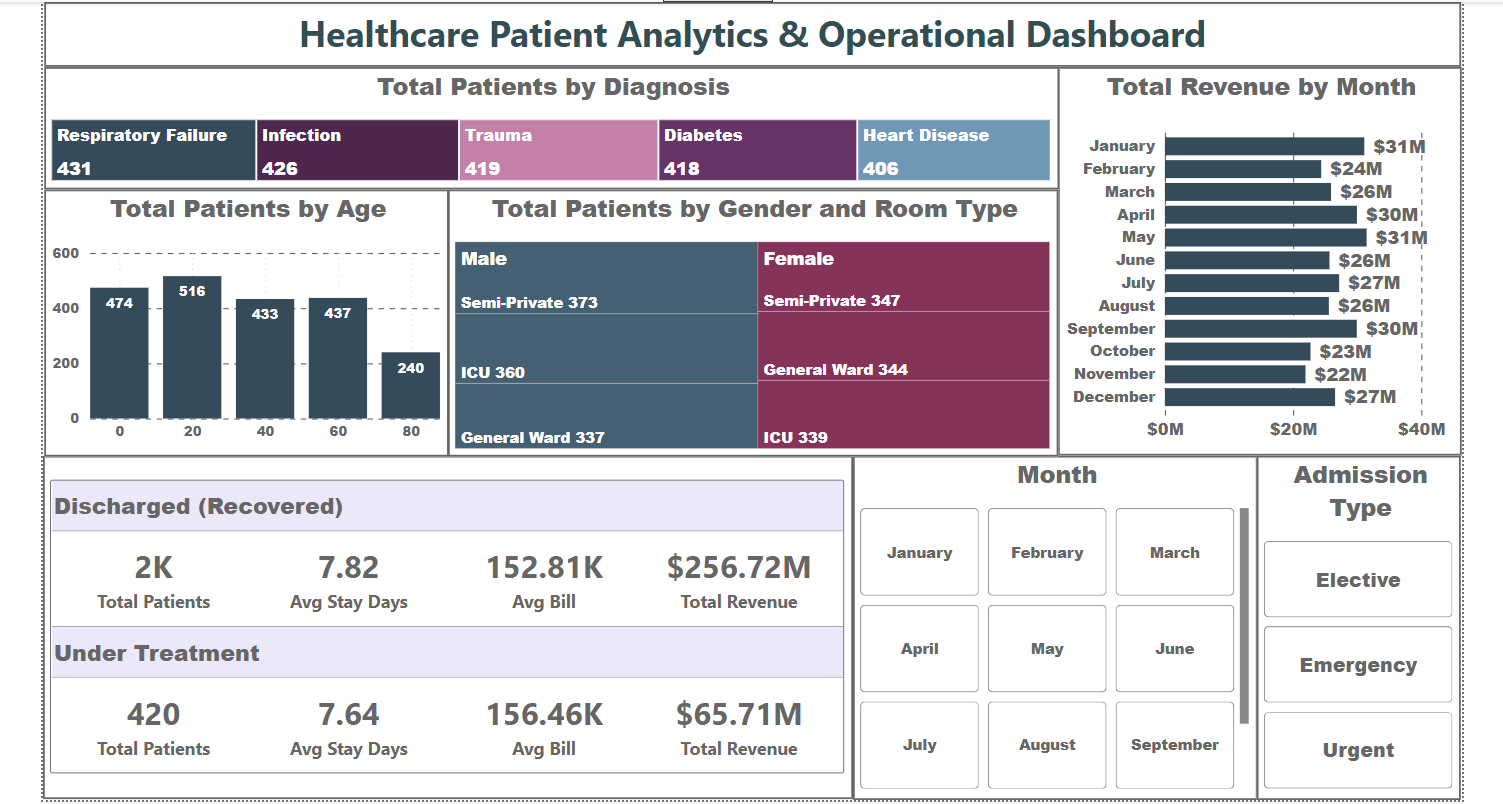

What the dashboard file says about the page in this screenshot:
{"tool":"powerbi","page":{"name":"Page 1","canvas":[1280,720],"ordinal":0},"visuals":[{"type":"advancedSlicerVisual","title":"Month ","fields":{"Values":["healthcare_analytics_db patient_data.Month Name"]},"box":[729.9,409.1,364.9,310],"z":0},{"type":"advancedSlicerVisual","fields":{"Values":["healthcare_analytics_db patient_data.Admission Type"]},"box":[1094.8,409.1,184,310],"z":1000},{"type":"cardVisual","fields":{"Data":["healthcare_analytics_db patient_data.Total Patients","healthcare_analytics_db patient_data.Avg Stay Days","healthcare_analytics_db patient_data.Avg Bill","healthcare_analytics_db patient_data.Total Revenue"],"Rows":["healthcare_analytics_db patient_data.Patient Status"]},"box":[0,409.6,730,309.4],"z":2000},{"type":"barChart","title":"Total Revenue by Month ","fields":{"Category":["healthcare_analytics_db patient_data.Month Name"],"Y":["healthcare_analytics_db patient_data.Total Revenue"]},"box":[915.6,58.4,363.6,350.6],"z":3000},{"type":"treemap","fields":{"Group":["healthcare_analytics_db patient_data.Diagnosis"],"Values":["healthcare_analytics_db patient_data.Total Patients"]},"box":[1.3,58.4,915,110],"z":4000},{"type":"columnChart","title":"Total Patients by Age ","fields":{"Category":["healthcare_analytics_db patient_data.Age (bins)"],"Y":["healthcare_analytics_db patient_data.Total Patients"]},"box":[1.2,168.8,364.4,240.9],"z":5000},{"type":"textbox","box":[1.3,0,1277.9,58.4],"z":6000},{"type":"treemap","fields":{"Group":["healthcare_analytics_db patient_data.Gender"],"Values":["healthcare_analytics_db patient_data.Total Patients"],"Details":["healthcare_analytics_db patient_data.Room Type"]},"box":[365.6,168.8,550,240.9],"z":7000}]}

Visuals, with their boxes in screenshot pixels (x1, y1, x2, y2):
"Month " advancedSlicerVisual: (849,450,1250,790)
advancedSlicerVisual - healthcare_analytics_db patient_data.Admission Type: (1250,450,1452,790)
cardVisual - healthcare_analytics_db patient_data.Total Patients x healthcare_analytics_db patient_data.Avg Stay Days: (47,450,849,790)
"Total Revenue by Month " barChart: (1053,64,1453,449)
treemap - healthcare_analytics_db patient_data.Diagnosis x healthcare_analytics_db patient_data.Total Patients: (48,64,1054,185)
"Total Patients by Age " columnChart: (48,186,449,450)
textbox: (48,0,1453,64)
treemap - healthcare_analytics_db patient_data.Gender x healthcare_analytics_db patient_data.Total Patients: (449,186,1053,450)
